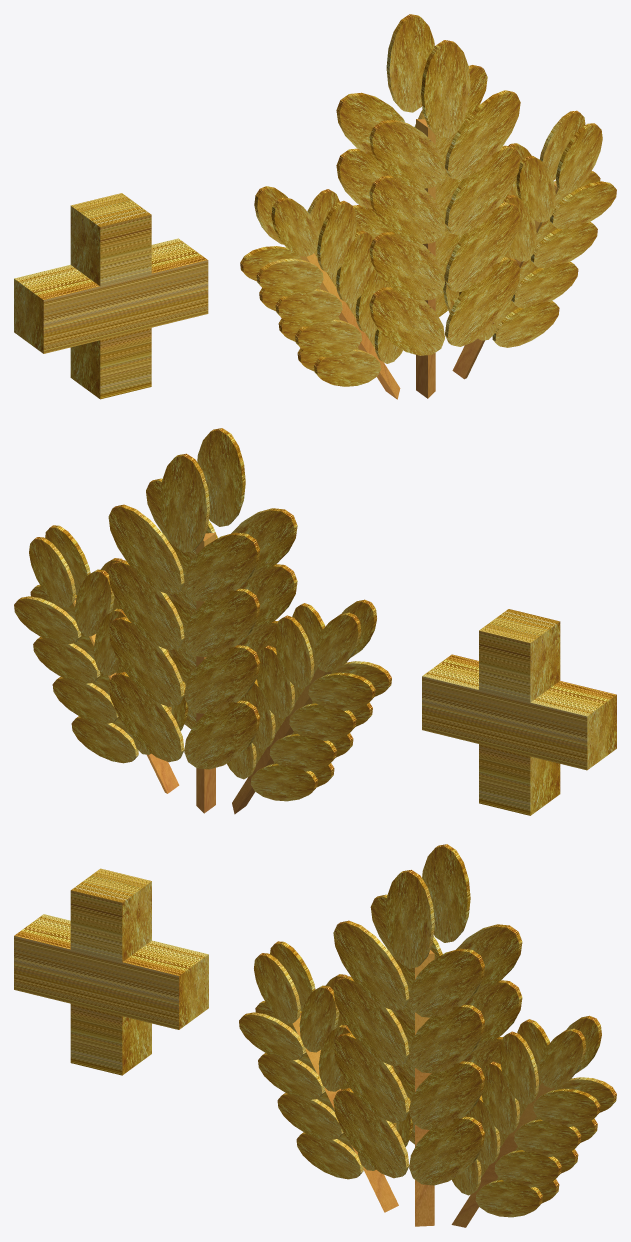
Rendered from Icon Gain Wheat.fbx.
3 renders of one model, top to bottom at view 1: azimuth 30°, elevation 25°; view 2: azimuth 150°, elevation 25°; view 3: azimuth 330°, elevation 25°, orthographic.
Parts seen in each view (by area): view 1: Icon_Wheat_Gain; view 2: Icon_Wheat_Gain; view 3: Icon_Wheat_Gain.
Boxes of the visible parts, bbox=[...] form: Icon_Wheat_Gain: bbox=[14, 14, 616, 399]; Icon_Wheat_Gain: bbox=[14, 428, 616, 815]; Icon_Wheat_Gain: bbox=[14, 844, 616, 1227].
Size of the model in its own units: 11.23 by 6.78 by 1.28.
2 materials, 2 textured.
